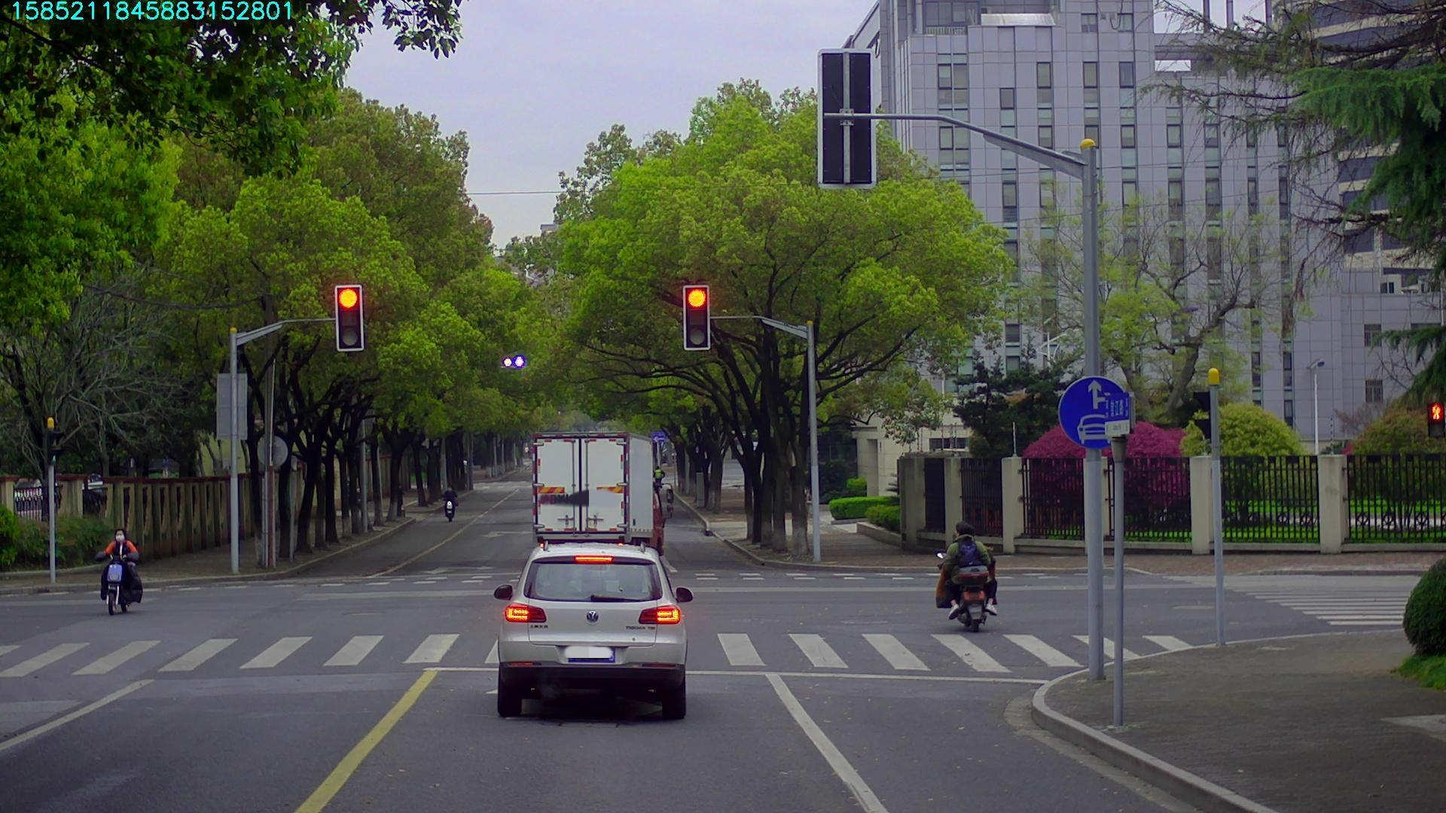red: (683, 285, 709, 349), (336, 285, 362, 349)
